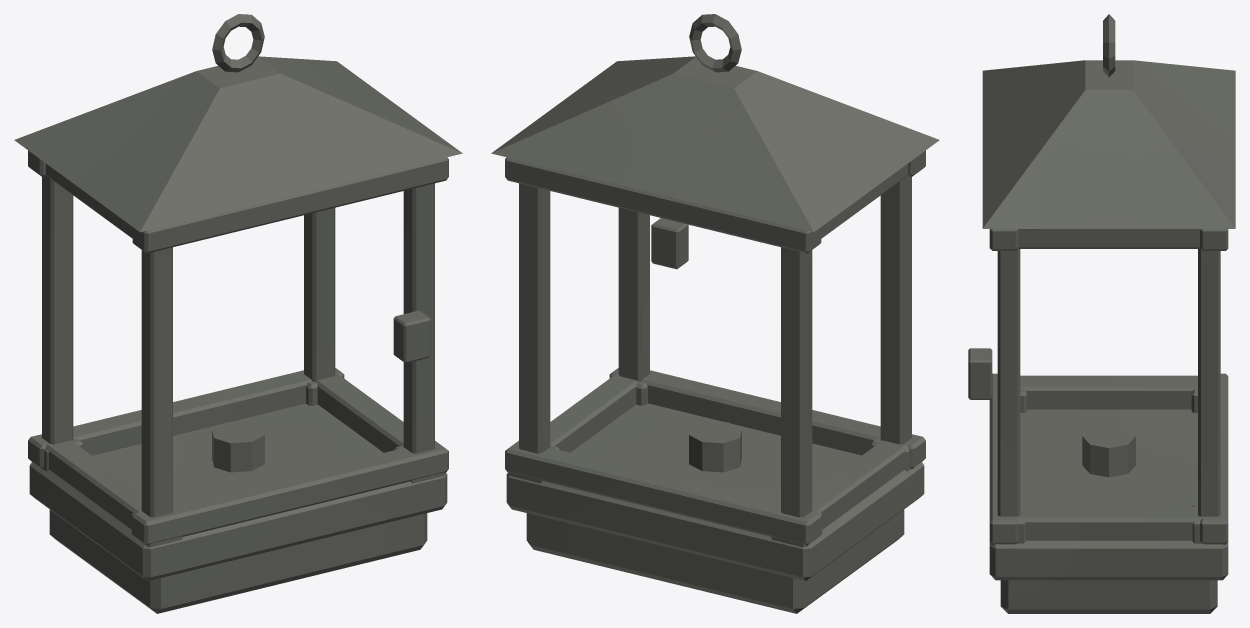
Rendered from WarrensC_CCS60_LanternHousing_Mars_SM.fbx.
3 views of the same model, side by side, from view 1: azimuth 30°, elevation 25°; view 2: azimuth 150°, elevation 25°; view 3: azimuth 270°, elevation 25° (orthographic).
Parts seen in each view (by area): view 1: WarrensC_CCS60_LanternHousing_Mars_SM.001; view 2: WarrensC_CCS60_LanternHousing_Mars_SM.001; view 3: WarrensC_CCS60_LanternHousing_Mars_SM.001.
Part boxes in pixels (bbox=[...]): WarrensC_CCS60_LanternHousing_Mars_SM.001: bbox=[14, 14, 462, 613]; WarrensC_CCS60_LanternHousing_Mars_SM.001: bbox=[491, 14, 939, 613]; WarrensC_CCS60_LanternHousing_Mars_SM.001: bbox=[968, 14, 1235, 613].
Size of the model in its own units: 35 by 25 by 55.
